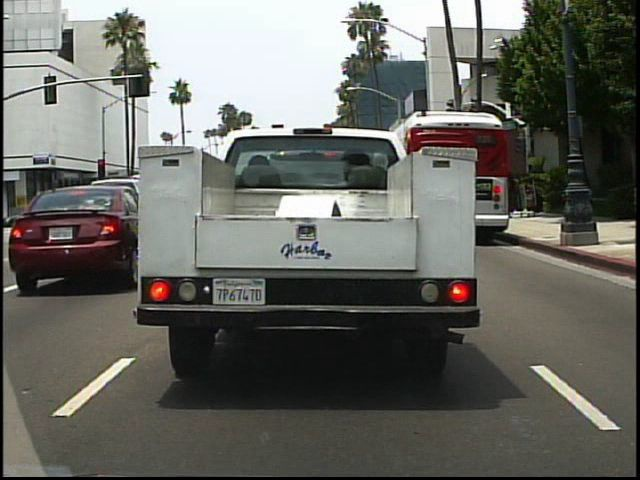person: (27, 196, 48, 240), (22, 198, 41, 233)
